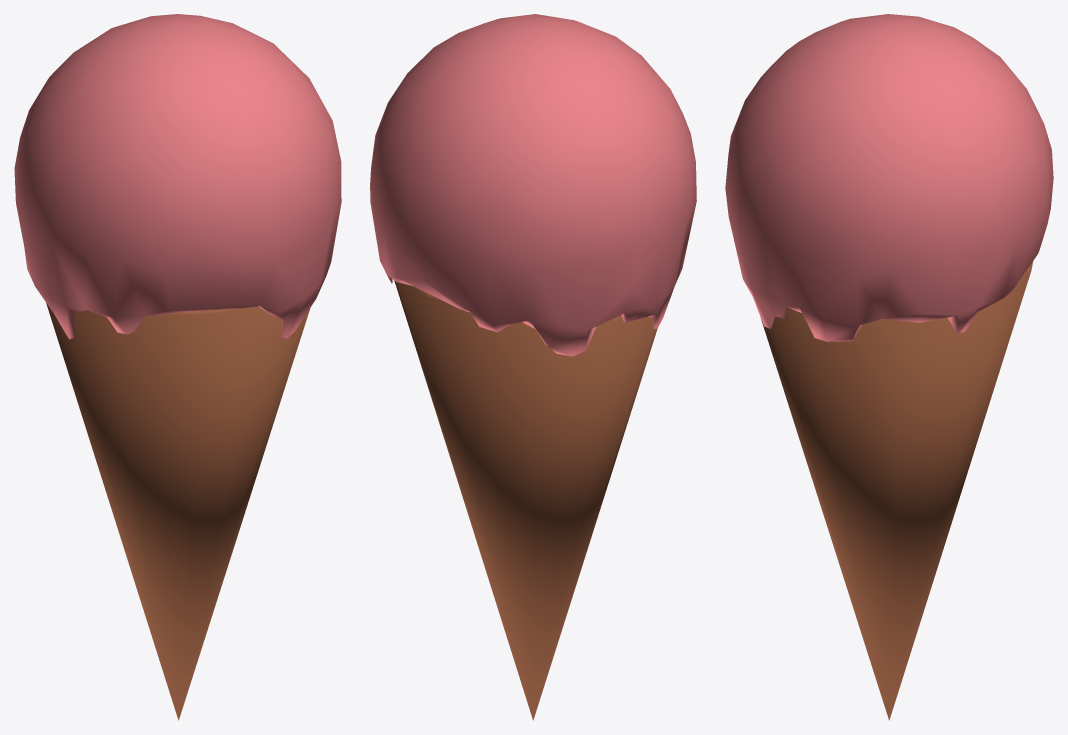
The model's file is IceCreamCone.fbx.
3 renders of one model, left to right at view 1: azimuth 30°, elevation 25°; view 2: azimuth 150°, elevation 25°; view 3: azimuth 270°, elevation 25°, orthographic.
Visible parts, largest first — view 1: Sphere, Cone; view 2: Sphere, Cone; view 3: Sphere, Cone.
Boxes of the visible parts, x1,y1,x2,y2 form: Sphere: [14, 14, 341, 339]; Cone: [46, 303, 309, 720]; Sphere: [370, 14, 696, 356]; Cone: [394, 280, 657, 720]; Sphere: [725, 14, 1053, 341]; Cone: [761, 261, 1033, 720].
Size of the model in its own units: 206 by 482 by 207.
